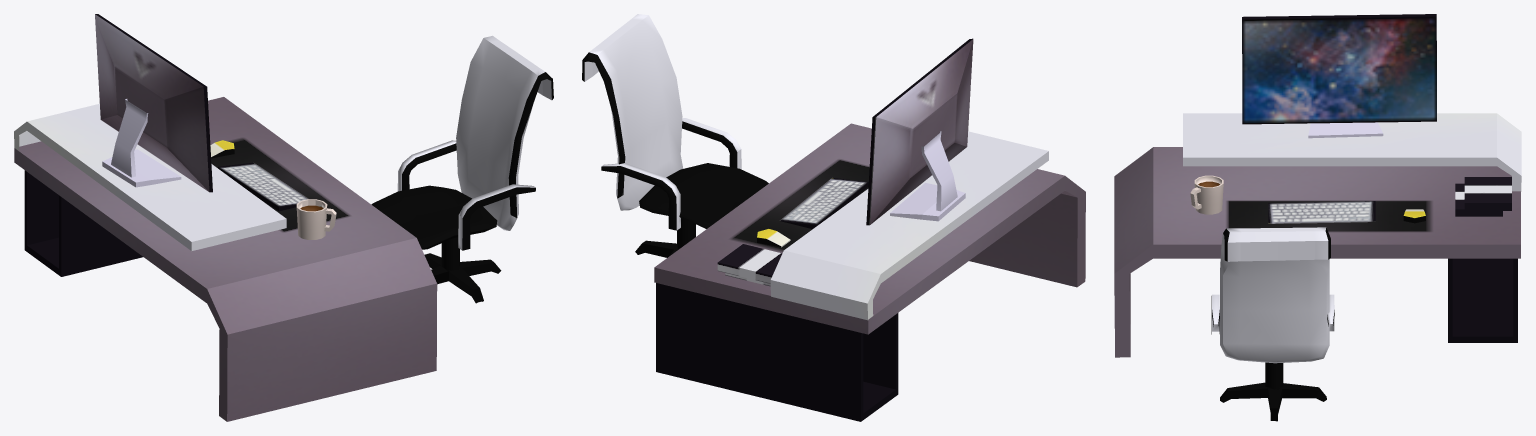
Rendered from Lux_Comp_T7.fbx.
3 views of the same model, side by side, from view 1: azimuth 30°, elevation 25°; view 2: azimuth 150°, elevation 25°; view 3: azimuth 270°, elevation 25° (orthographic). The views are drawn at different scales.
Parts seen in each view (by area): view 1: Lux_Comp_T7; view 2: Lux_Comp_T7; view 3: Lux_Comp_T7.
Part boxes in pixels (x1,y1,x2,y2): Lux_Comp_T7: (14,14,553,421); Lux_Comp_T7: (582,14,1085,421); Lux_Comp_T7: (1114,14,1521,421).
Bounding box in the file's own units: 11.27 × 7.71 × 10.81.
1 material, 1 textured.
